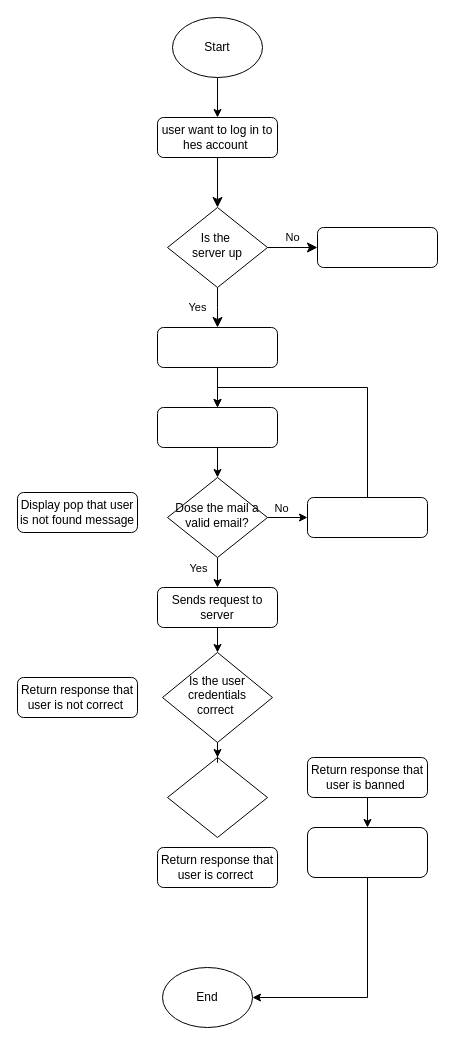
Some shapes in this 455 by 1045 pixel diagram are drawn without their labels. Here are the shapes that lost their labels. From the top down, the centre of each, then its label:
point 377,247: Redirect to 404 page
point 217,347: Goes to log-in page
point 217,427: Inputs email and password
point 367,517: Mark email that its not a viable email
point 217,797: Is the user banned
point 367,852: Display that the user is banned message page
